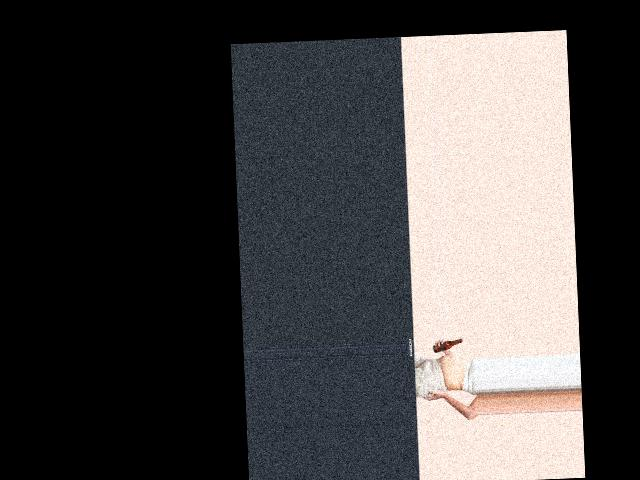beer: (432, 338, 462, 353)
